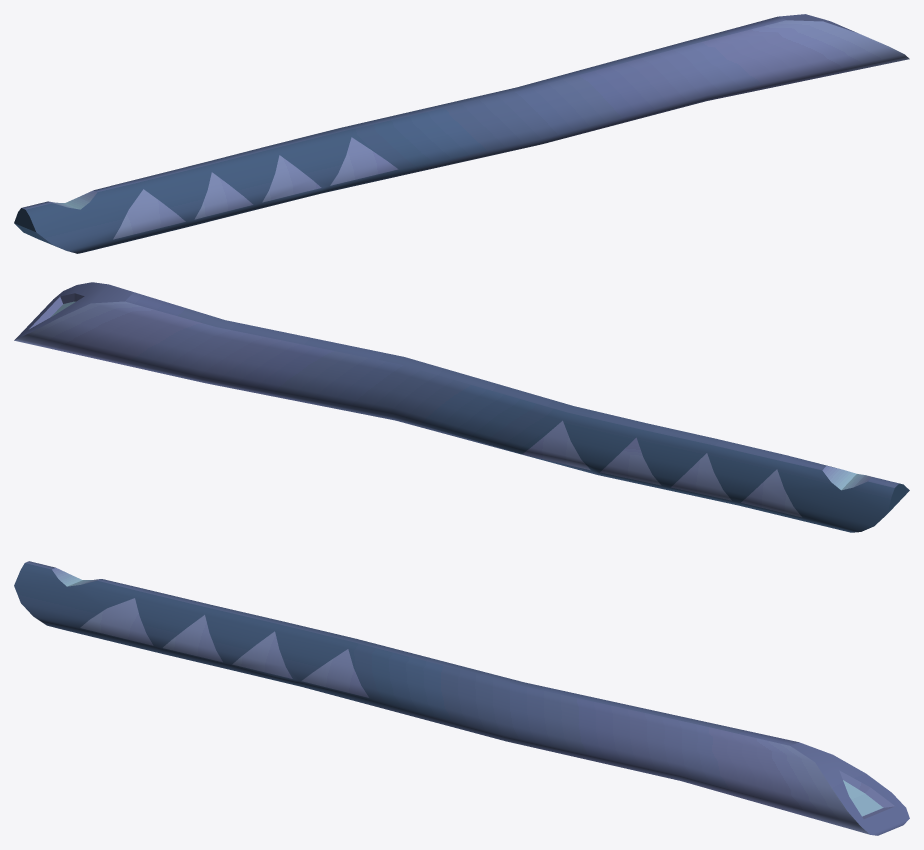
Rendered from CharSkyKid_Prop_AP03Flute_01.glb.
The picture shows the model from 3 angles, top to bottom: view 1: azimuth 30°, elevation 25°; view 2: azimuth 150°, elevation 25°; view 3: azimuth 330°, elevation 25°; orthographic projection.
Visible parts, largest first — view 1: CharSkyKid_Prop_AP03Flute_01; view 2: CharSkyKid_Prop_AP03Flute_01; view 3: CharSkyKid_Prop_AP03Flute_01.
Boxes of the visible parts, x1=… form: CharSkyKid_Prop_AP03Flute_01: x1=14, y1=14, x2=909, y2=253; CharSkyKid_Prop_AP03Flute_01: x1=14, y1=282, x2=909, y2=532; CharSkyKid_Prop_AP03Flute_01: x1=14, y1=561, x2=909, y2=835.
Size of the model in its own units: 7.07 by 0.4808 by 0.649.
1 material, 1 textured.
